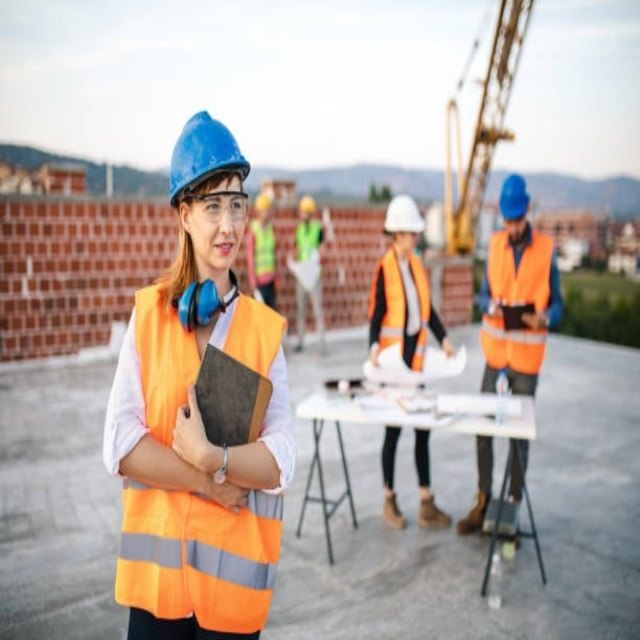Gafas: (186, 184, 251, 221)
Sin_guantes: (169, 381, 211, 471), (206, 474, 257, 516)
Sin_mascara: (207, 235, 239, 267)
